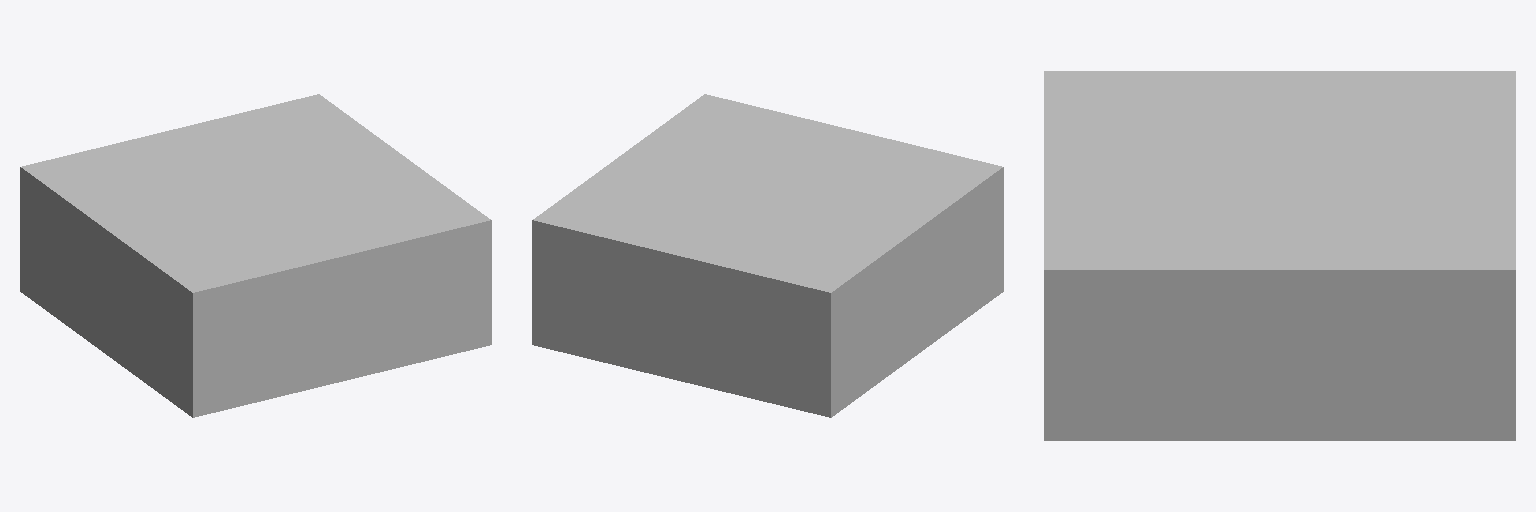
The robot description file, URDF, robot "simple_robot":
<robot name="simple_robot">
  <link name="box_link">
    <visual>
      <geometry>
        <box size="0.5 0.5 0.2"/>
      </geometry>
      <material>
        <color rgba="0.8 0.8 0.8 1.0"/>
      </material>
    </visual>
    <collision>
      <geometry>
        <box size="0.5 0.5 0.2"/>
      </geometry>
    </collision>
    <inertial>
      <mass value="1.0"/>
      <inertia ixx="0.01" ixy="0.0" ixz="0.0" iyy="0.01" iyz="0.0" izz="0.01"/>
    </inertial>
  </link>
</robot>

--- Facts derived from the render (not from the file) ---
3 views of the same robot in one strip: view 1: azimuth 30°, elevation 25°; view 2: azimuth 150°, elevation 25°; view 3: azimuth 270°, elevation 25° (orthographic).
Robot: simple_robot — 1 links, 0 joints (none); root link box_link; default pose: every joint at zero.
Links seen in each view (by area): view 1: box_link; view 2: box_link; view 3: box_link.
Link boxes in pixels (box(x1,y1,x2,y2)): box_link: box(20, 94, 491, 417); box_link: box(532, 94, 1003, 417); box_link: box(1044, 71, 1515, 440).
Bounding box of the posed robot: 0.5 × 0.5 × 0.2 m (x, y, z).
Geometry: primitives only (box / cylinder / sphere), no mesh files.